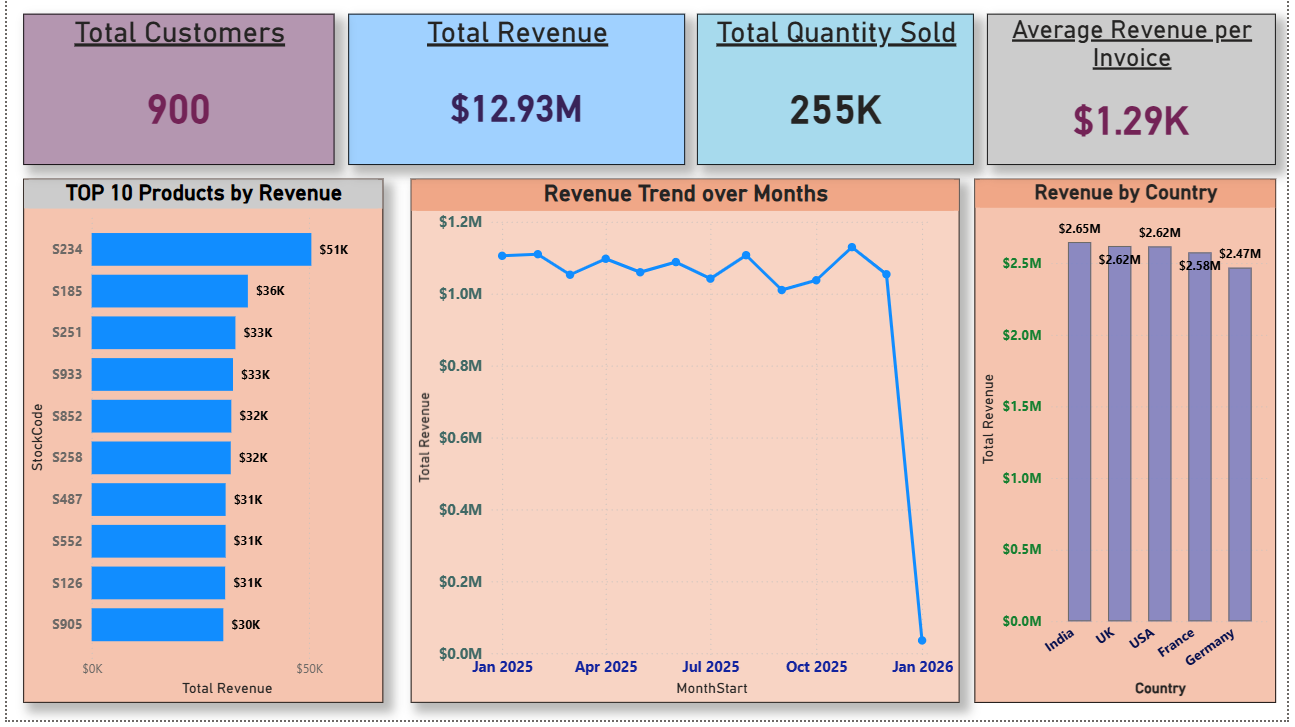

This screenshot's page, from the dashboard's own definition file:
{"tool":"powerbi","page":{"name":"Page 1","canvas":[1280,720],"ordinal":0},"visuals":[{"type":"lineChart","title":"Revenue Trend over Months","fields":{"Y":["Sum(sales_data_clean.ToatalRevenue)"],"Category":["sales_data_clean.MonthStart"]},"box":[404.3,181.4,548.6,512.9],"z":0},{"type":"clusteredBarChart","title":"TOP 10 Products by Revenue","fields":{"Category":["sales_data_clean.StockCode"],"Y":["Sum(sales_data_clean.ToatalRevenue)"]},"box":[15.7,181.4,360,512.9],"z":1},{"type":"clusteredColumnChart","title":"Revenue by Country","fields":{"Category":["sales_data_clean.Country"],"Y":["Sum(sales_data_clean.ToatalRevenue)"]},"box":[967.1,194.3,300,511.4],"z":2},{"type":"card","title":"Total Revenue","fields":{"Values":["Sum(sales_data_clean.ToatalRevenue)"]},"box":[341.4,14.3,337.1,151.4],"z":3},{"type":"card","title":"Total Customers","fields":{"Values":["Count(sales_data_clean.CustomerID)"]},"box":[15.7,14.3,311.4,151.4],"z":4},{"type":"card","title":"Total Quantity Sold","fields":{"Values":["Sum(sales_data_clean.Quantity)"]},"box":[690,14.3,277.1,151.4],"z":5},{"type":"card","title":"Average Revenue per Invoice","fields":{"Values":["Avg(sales_data_clean.ToatalRevenue)"]},"box":[980,14.3,288.6,151.4],"z":6}]}

Visuals, with their boxes in screenshot pixels (x1, y1, x2, y2), scaled from the page's 1280x720 canvas onto the 1295x727 screenshot:
"Revenue Trend over Months" lineChart: BBox(409, 183, 964, 701)
"TOP 10 Products by Revenue" clusteredBarChart: BBox(16, 183, 380, 701)
"Revenue by Country" clusteredColumnChart: BBox(978, 196, 1282, 713)
"Total Revenue" card: BBox(345, 14, 686, 167)
"Total Customers" card: BBox(16, 14, 331, 167)
"Total Quantity Sold" card: BBox(698, 14, 978, 167)
"Average Revenue per Invoice" card: BBox(991, 14, 1283, 167)
